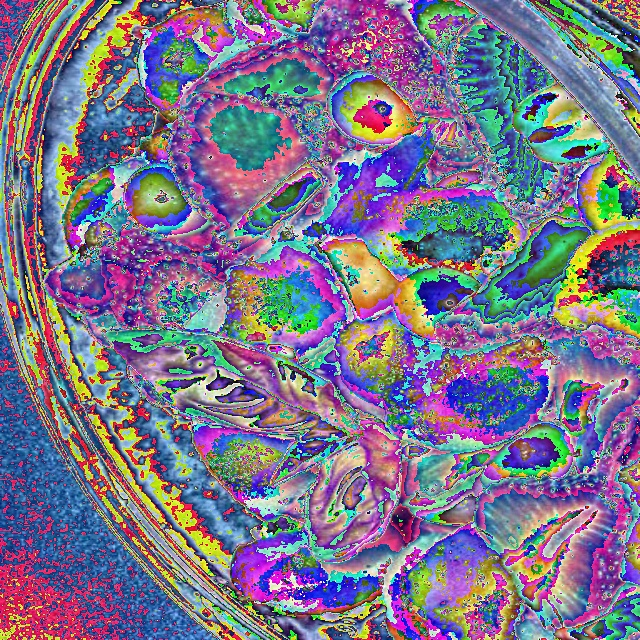background: (39, 0, 639, 640)
